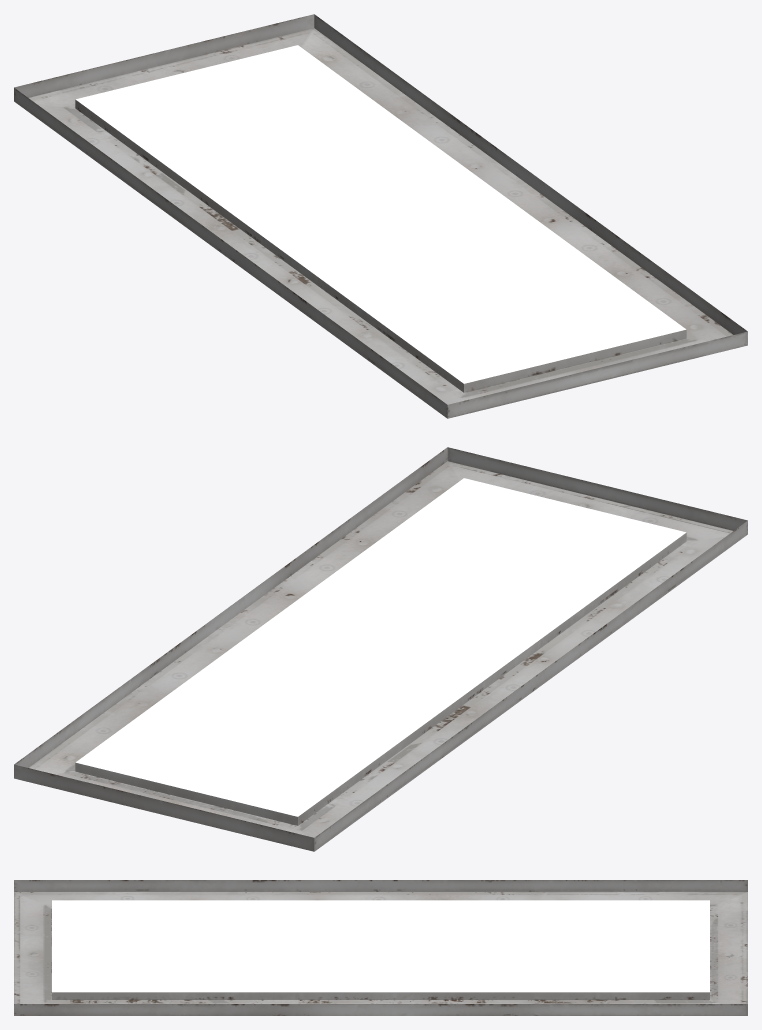
File: SM_Light_04.fbx
3 renders of one model, top to bottom at view 1: azimuth 30°, elevation 25°; view 2: azimuth 150°, elevation 25°; view 3: azimuth 270°, elevation 25°, orthographic. The views are drawn at different scales.
Parts seen in each view (by area): view 1: SM_Light_04; view 2: SM_Light_04; view 3: SM_Light_04.
Part boxes in pixels (bbox=[...]): SM_Light_04: bbox=[14, 14, 747, 418]; SM_Light_04: bbox=[14, 447, 747, 851]; SM_Light_04: bbox=[14, 880, 747, 1015].
Bounding box in the file's own units: 36.87 × 92.18 × 1.64.
1 material, 1 textured.
